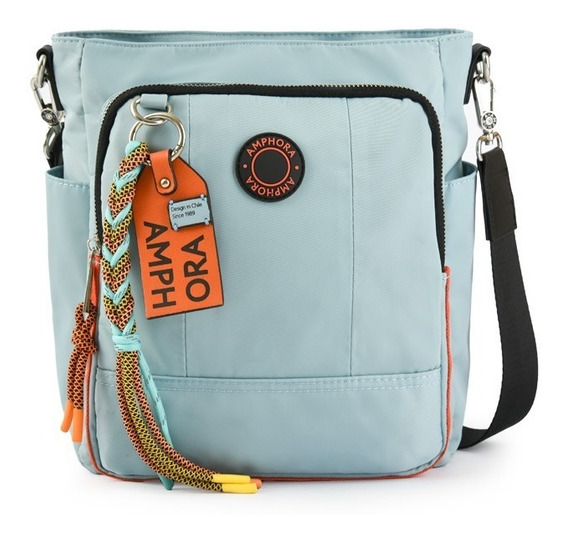cartera: (29, 27, 542, 492)
